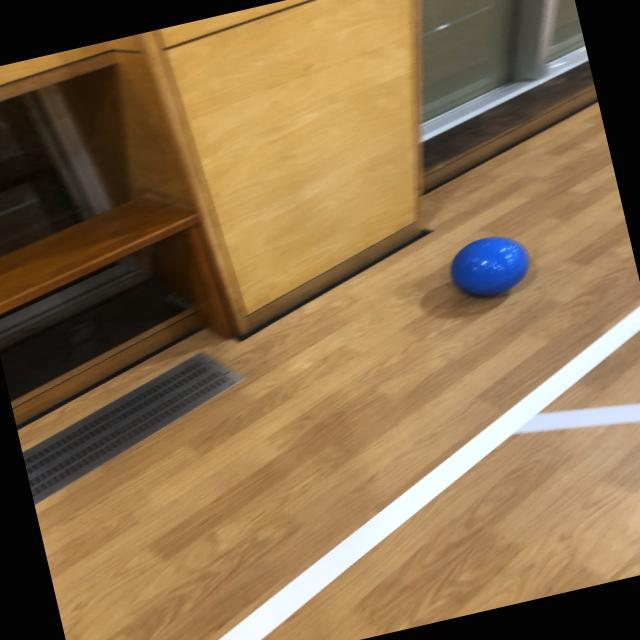blue_ball: (434, 224, 539, 310)
